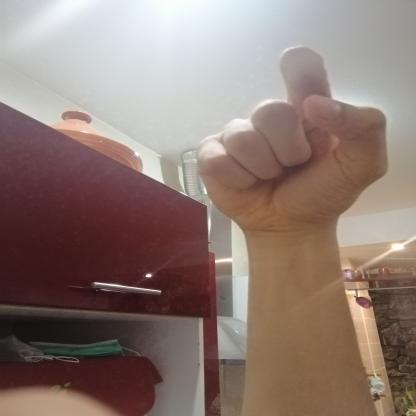FAA: (180, 34, 406, 244)
